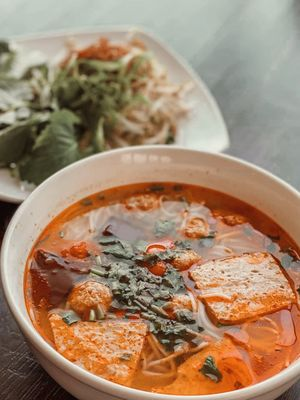sushi: (1, 145, 299, 399), (1, 29, 231, 194)
